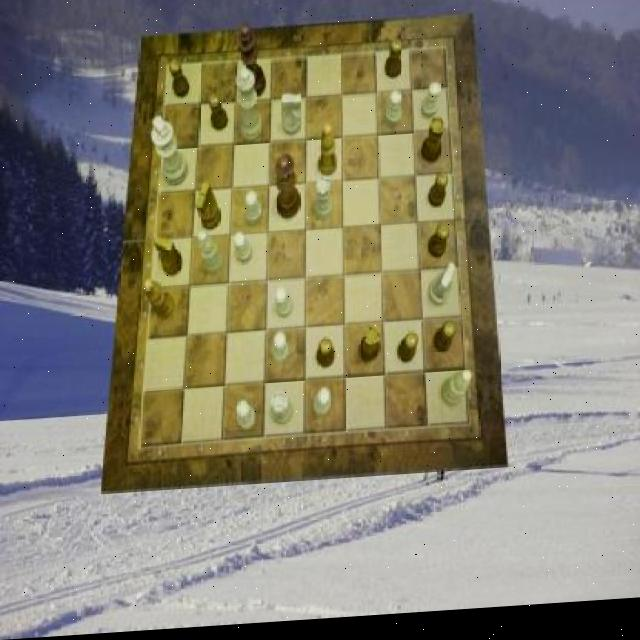bishop: (144, 279, 176, 323), (318, 127, 338, 182)
black-bishop: (237, 23, 266, 102)
black-king: (154, 235, 183, 279), (197, 186, 221, 234)
black-knight: (171, 61, 191, 102), (428, 230, 450, 266), (209, 94, 229, 133), (428, 178, 448, 215), (434, 327, 457, 359), (386, 43, 403, 84), (397, 338, 418, 370), (316, 342, 334, 374)
black-pawn: (276, 156, 302, 223)
black-queen: (423, 123, 446, 170), (358, 331, 379, 368)
black-rook: (198, 233, 224, 278), (442, 375, 472, 413)
white-bishop: (150, 116, 188, 191)
white-king: (429, 268, 457, 312), (282, 98, 302, 141)
white-knight: (422, 88, 442, 123), (234, 234, 253, 268), (237, 404, 257, 436), (386, 96, 403, 133), (275, 289, 293, 323), (245, 194, 262, 229), (272, 336, 290, 369), (314, 392, 331, 420)
white-pawn: (235, 69, 262, 145)
white-queen: (314, 181, 333, 226), (271, 394, 293, 429)
